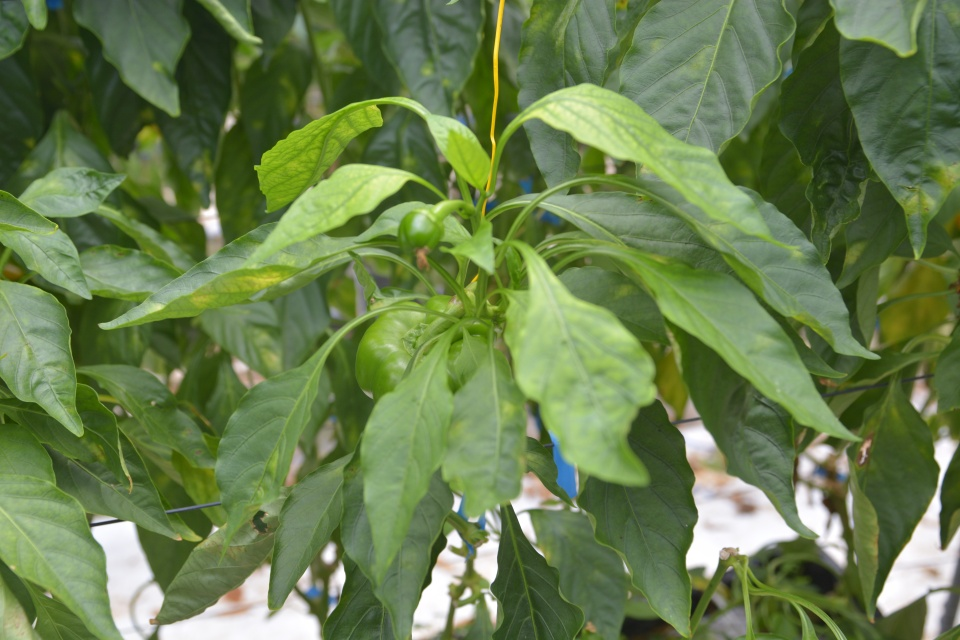fruit: (354, 291, 495, 407)
immature: (394, 206, 446, 272)
pedicle: (401, 320, 451, 361)
